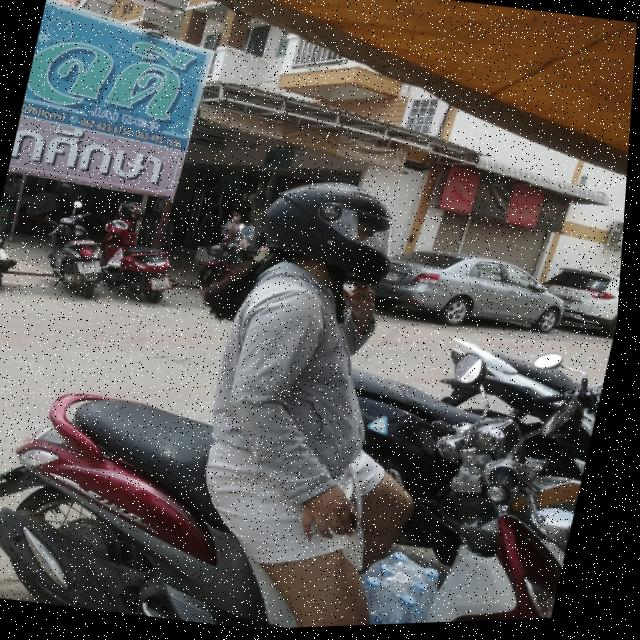helmet: (248, 168, 414, 300)
